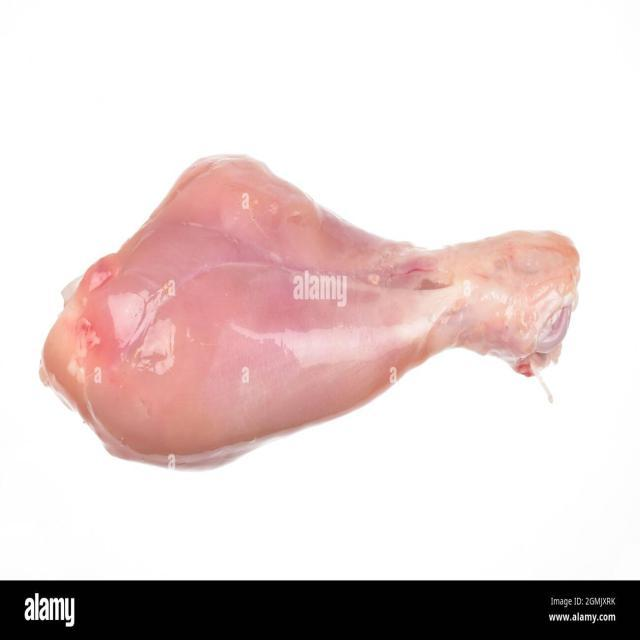leg: (48, 146, 578, 472)
